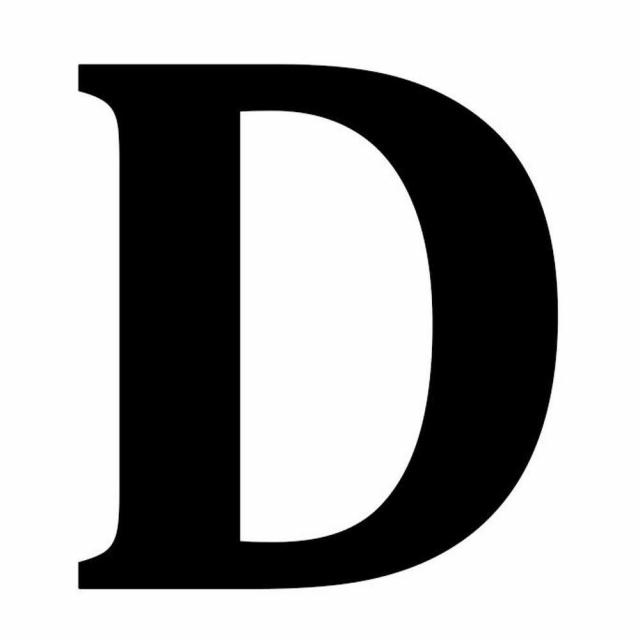D: (48, 22, 580, 609)
